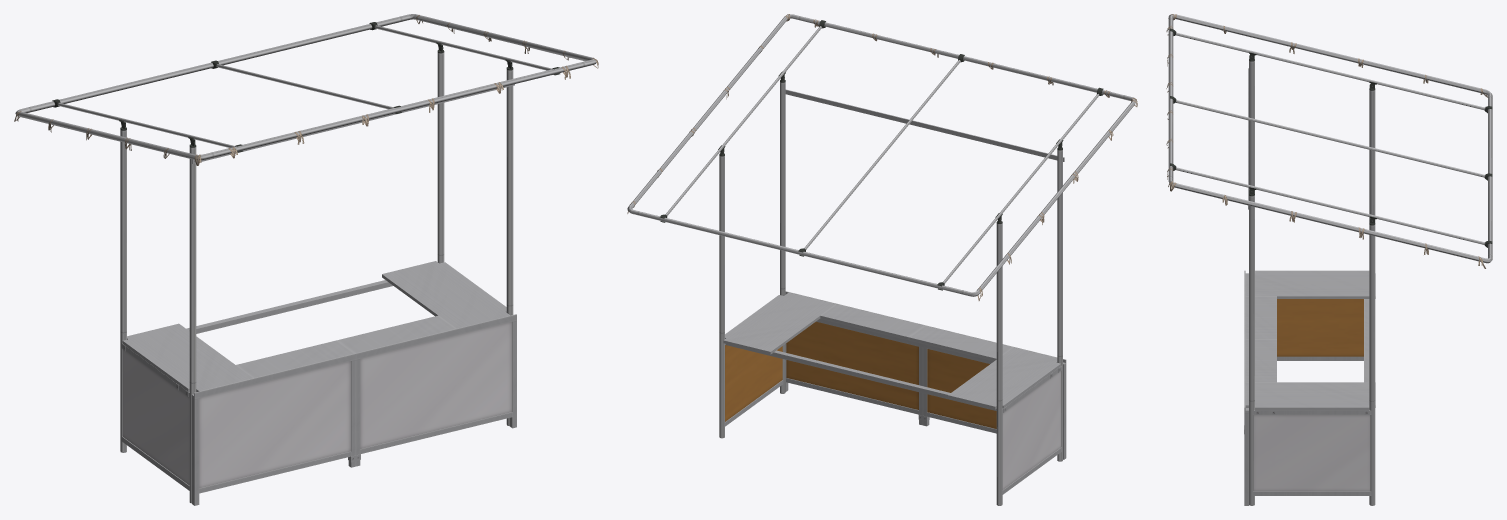
The model's file is jsf_4P_s02_c04_t03.fbx.
3 renders of one model, left to right at view 1: azimuth 30°, elevation 25°; view 2: azimuth 150°, elevation 25°; view 3: azimuth 270°, elevation 25°, orthographic. The views are drawn at different scales.
Visible parts, largest first — view 1: Base_s02_c04, Pillar4_s02, Table_4P_s02_t03, Rope_4P_s02; view 2: Base_s02_c04, Pillar4_s02, Table_4P_s02_t03, Rope_4P_s02; view 3: Base_s02_c04, Pillar4_s02, Table_4P_s02_t03, Rope_4P_s02.
Part boxes in pixels (x1,y1,x2,y2): Base_s02_c04: (121, 314, 516, 505); Pillar4_s02: (15, 14, 596, 503); Table_4P_s02_t03: (122, 261, 509, 396); Rope_4P_s02: (14, 15, 598, 165); Base_s02_c04: (725, 291, 1066, 494); Pillar4_s02: (627, 14, 1136, 505); Table_4P_s02_t03: (723, 292, 1061, 412); Rope_4P_s02: (627, 14, 1137, 300); Base_s02_c04: (1244, 270, 1371, 505); Pillar4_s02: (1168, 14, 1492, 505); Table_4P_s02_t03: (1245, 270, 1375, 414); Rope_4P_s02: (1166, 14, 1487, 268).
Bounding box in the file's own units: 264 × 243 × 211.
